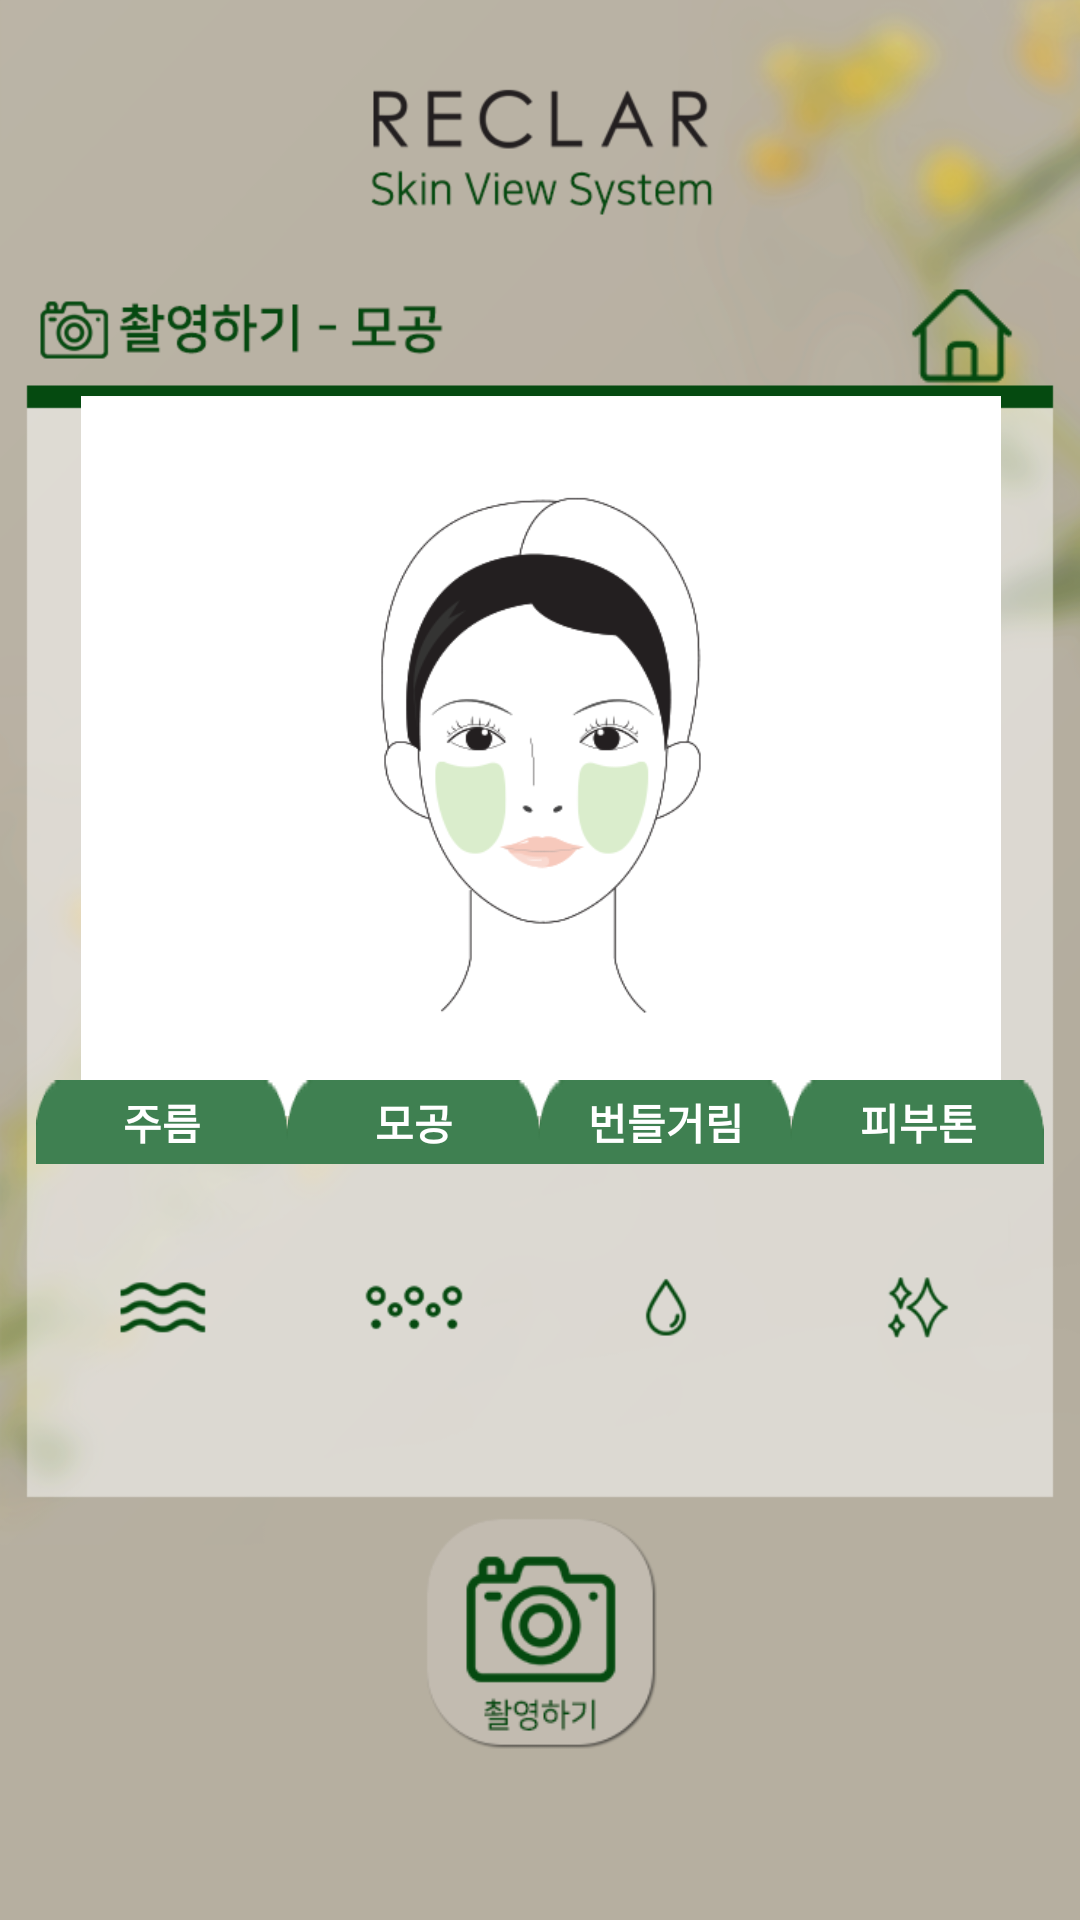

Named icons in this screenshot (1080w x 1920h) and their bounding boxes, (x1, y1, x2, y2):
home: (902, 275, 1022, 395)
oily: (645, 1279, 687, 1336)
pore: (365, 1285, 463, 1329)
tone: (888, 1277, 948, 1338)
wrinkle: (120, 1282, 206, 1333)
